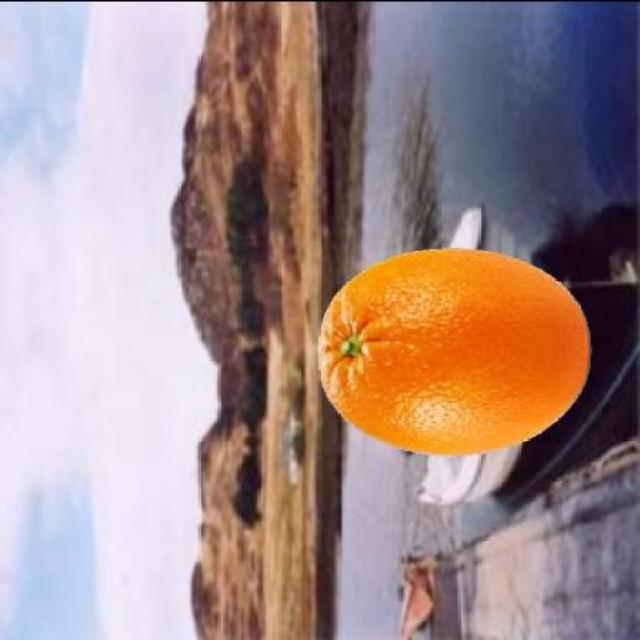Orange: (315, 245, 591, 457)
